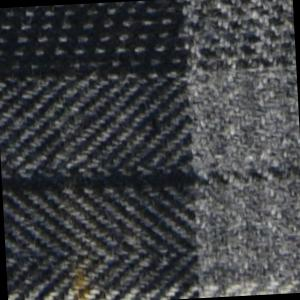Oil Stain: (65, 268, 95, 300)
